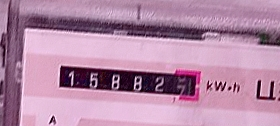1: (64, 66, 75, 85)
2: (151, 72, 164, 91)
5: (86, 69, 98, 87)
7: (173, 81, 185, 93)
8: (107, 70, 120, 88), (130, 71, 142, 90)
screen: (48, 52, 206, 107)
